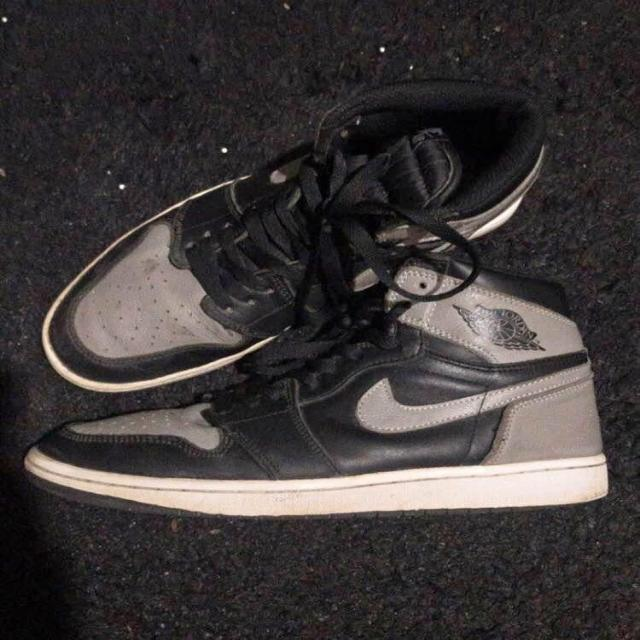nike fake jordan 1: (38, 80, 554, 397), (19, 249, 612, 519)
